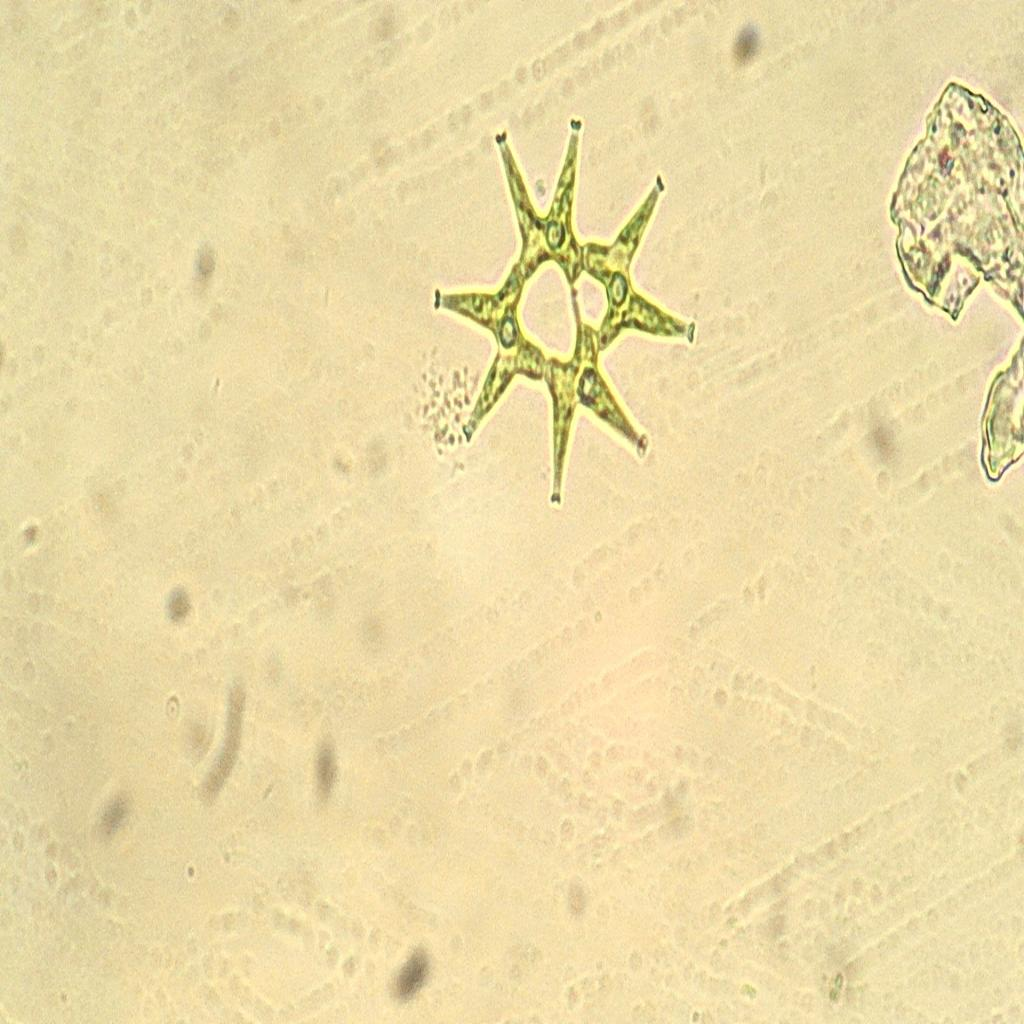Pediastrum_75FO: (424, 105, 708, 516)
